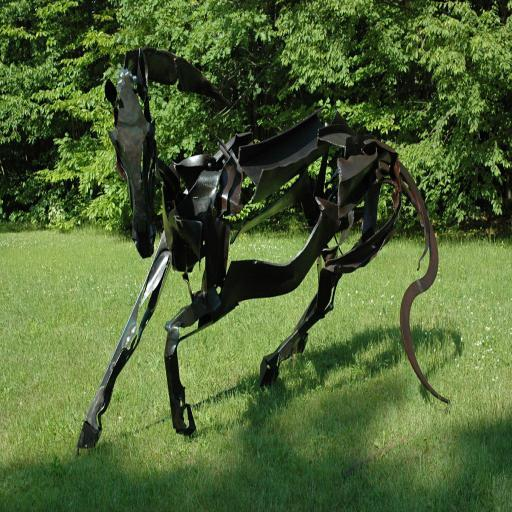Horse: (76, 50, 452, 452)
